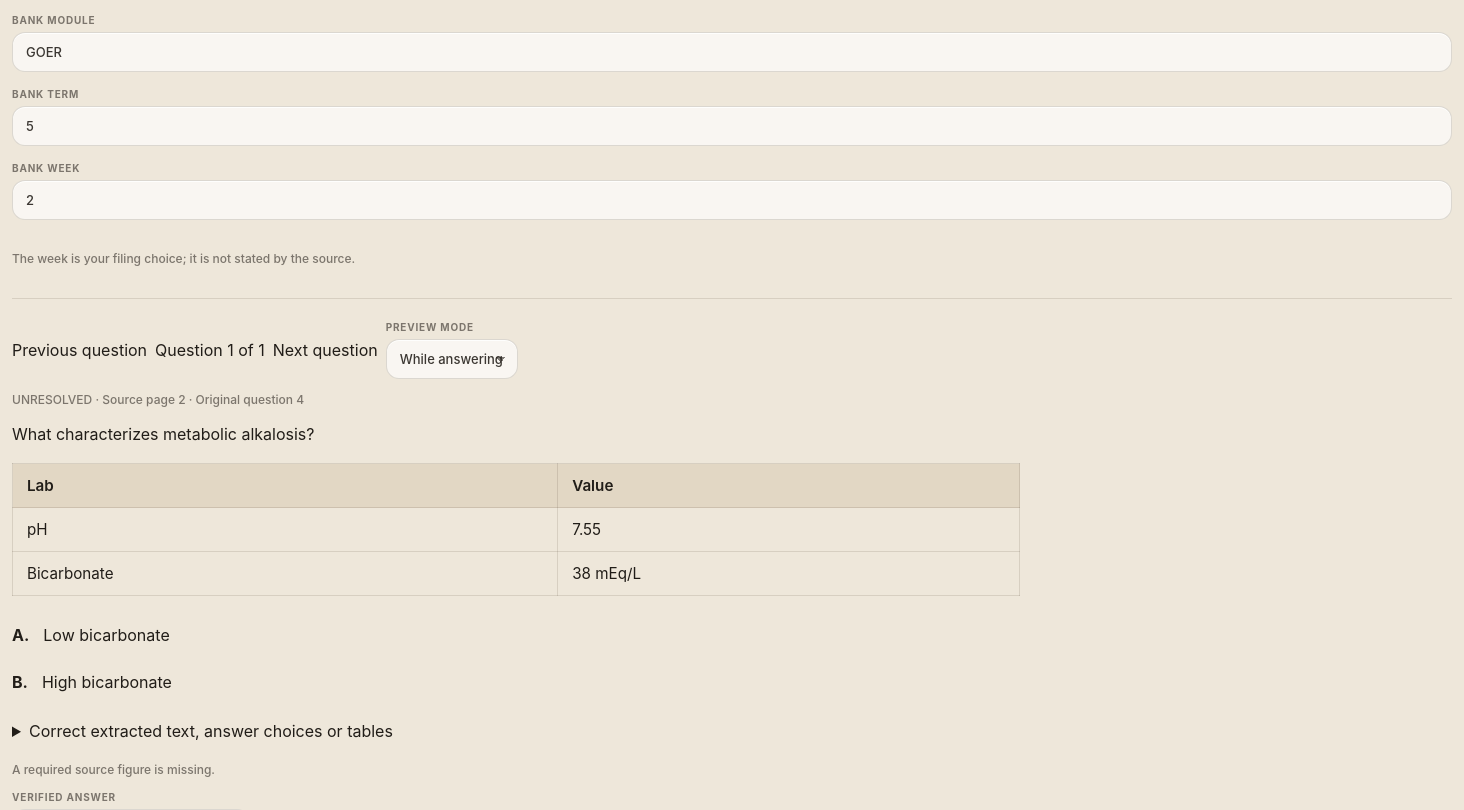
Test: structured question import review › preserves the printed-key source key label when an unrelated structural issue holds the question
(page scrolled)
Select "Source review" in the dropdown labelled "Preview mode" at (452, 359), box [386,339,518,379]
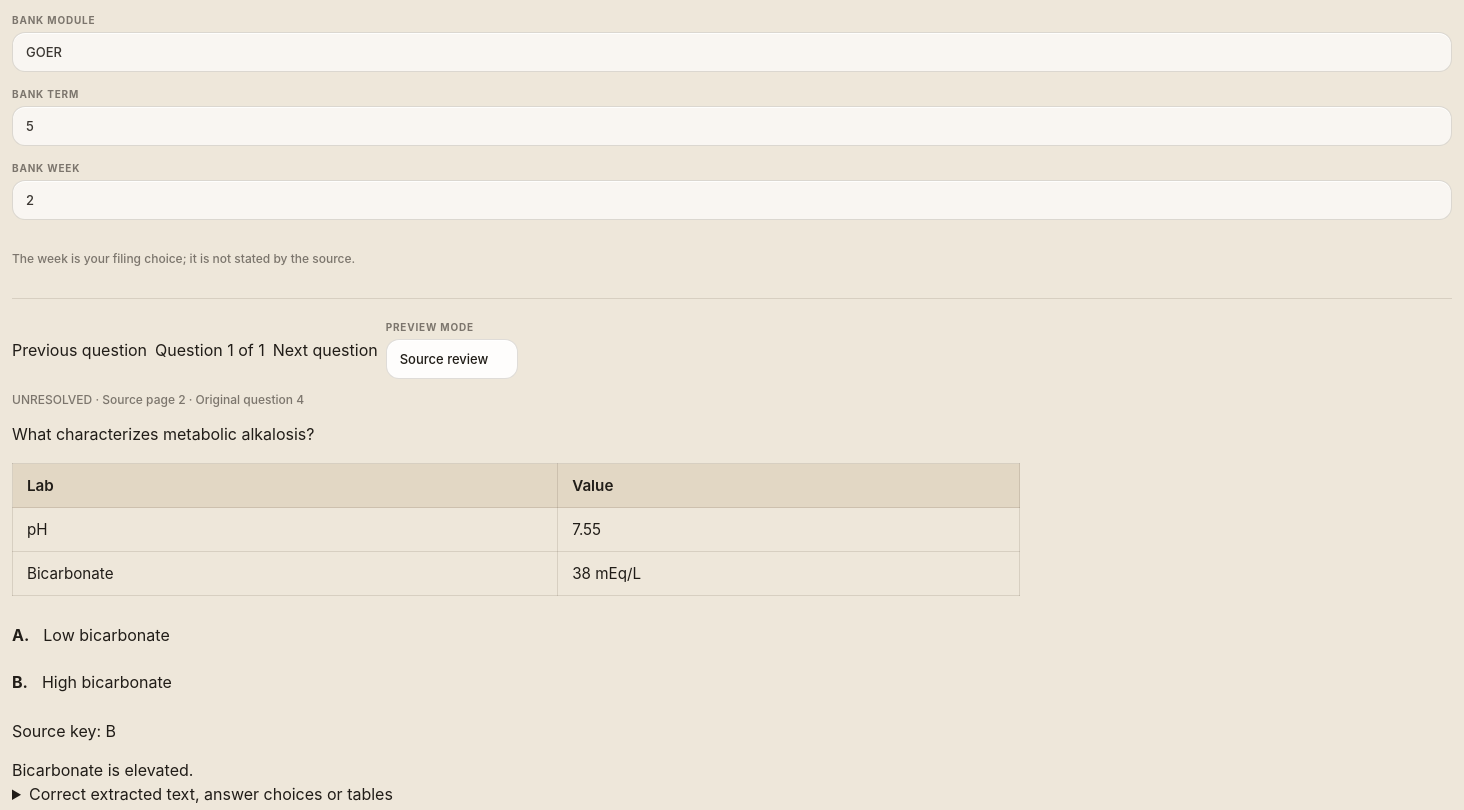
expect the text "UNRESOLVED · Source page 2 · Original question 4" is shown: met, box [12,392,304,407]
expect the text "Source key: B" is shown: met, box [12,721,116,741]
